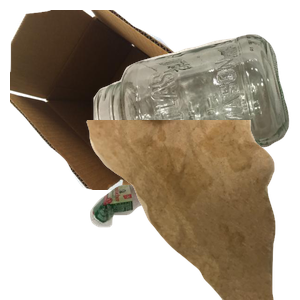cardboard: (10, 10, 218, 190)
glass: (91, 32, 300, 189)
plastic: (88, 182, 242, 300)
trash: (84, 120, 300, 300)
